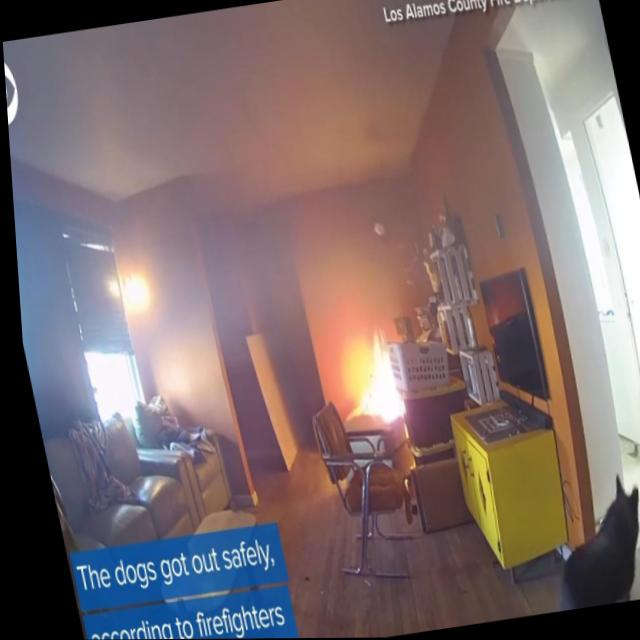fire: (335, 326, 405, 427)
